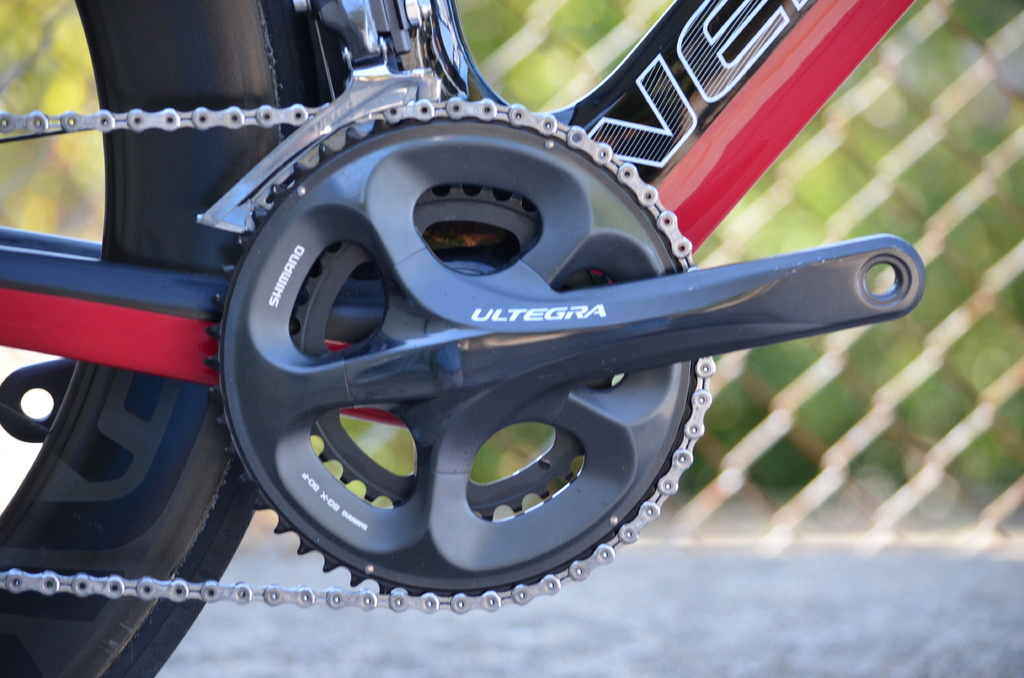Bicycle: (40, 0, 969, 620)
